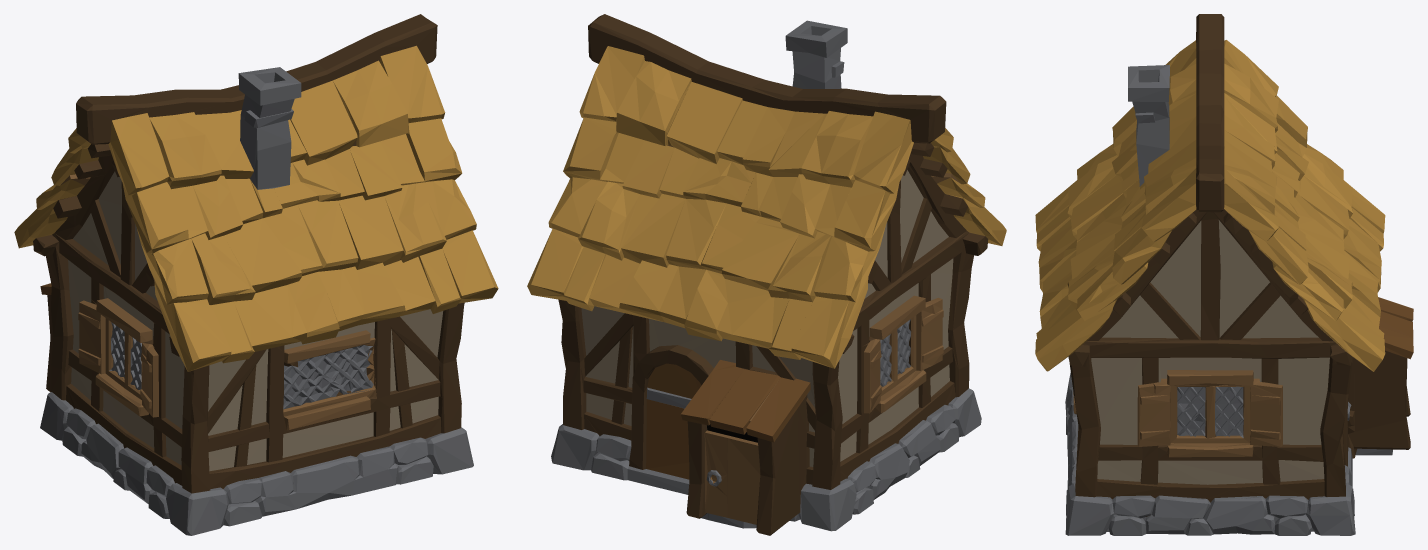
File: SmallMedievalHouse.fbx
3 views of the same model, side by side, from view 1: azimuth 30°, elevation 25°; view 2: azimuth 150°, elevation 25°; view 3: azimuth 270°, elevation 25° (orthographic). The views are drawn at different scales.
Parts seen in each view (by area): view 1: SmallMedievalHouse_LOD0; view 2: SmallMedievalHouse_LOD0; view 3: SmallMedievalHouse_LOD0.
Part boxes in pixels (<box>): SmallMedievalHouse_LOD0: <box>14,14,498,535</box>; SmallMedievalHouse_LOD0: <box>527,14,1006,535</box>; SmallMedievalHouse_LOD0: <box>1035,14,1413,535</box>.
Size of what is drawn, in the model's own units: 6.1 by 5.91 by 6.63.
